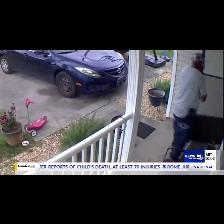person: (165, 53, 207, 162)
